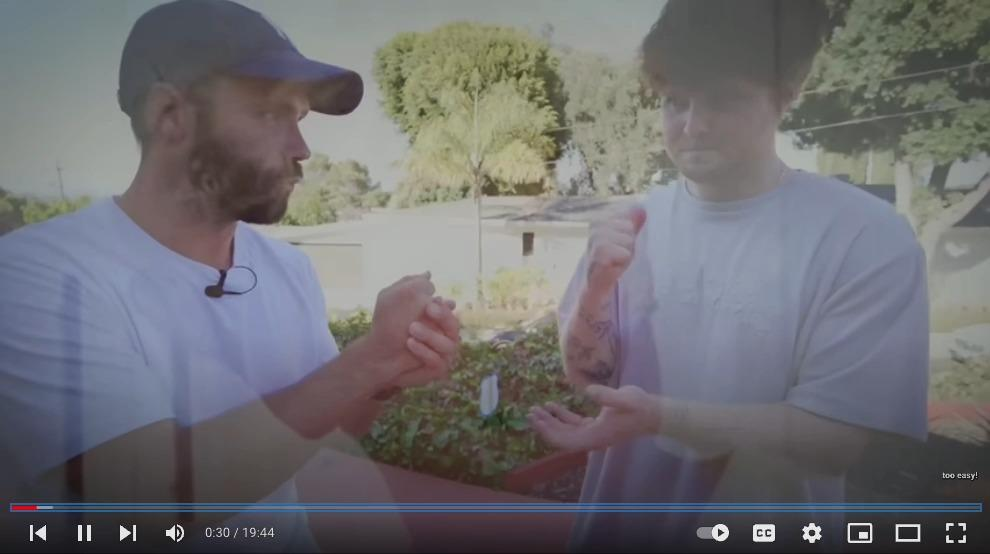Rock: (376, 269, 454, 386), (585, 205, 649, 297)
